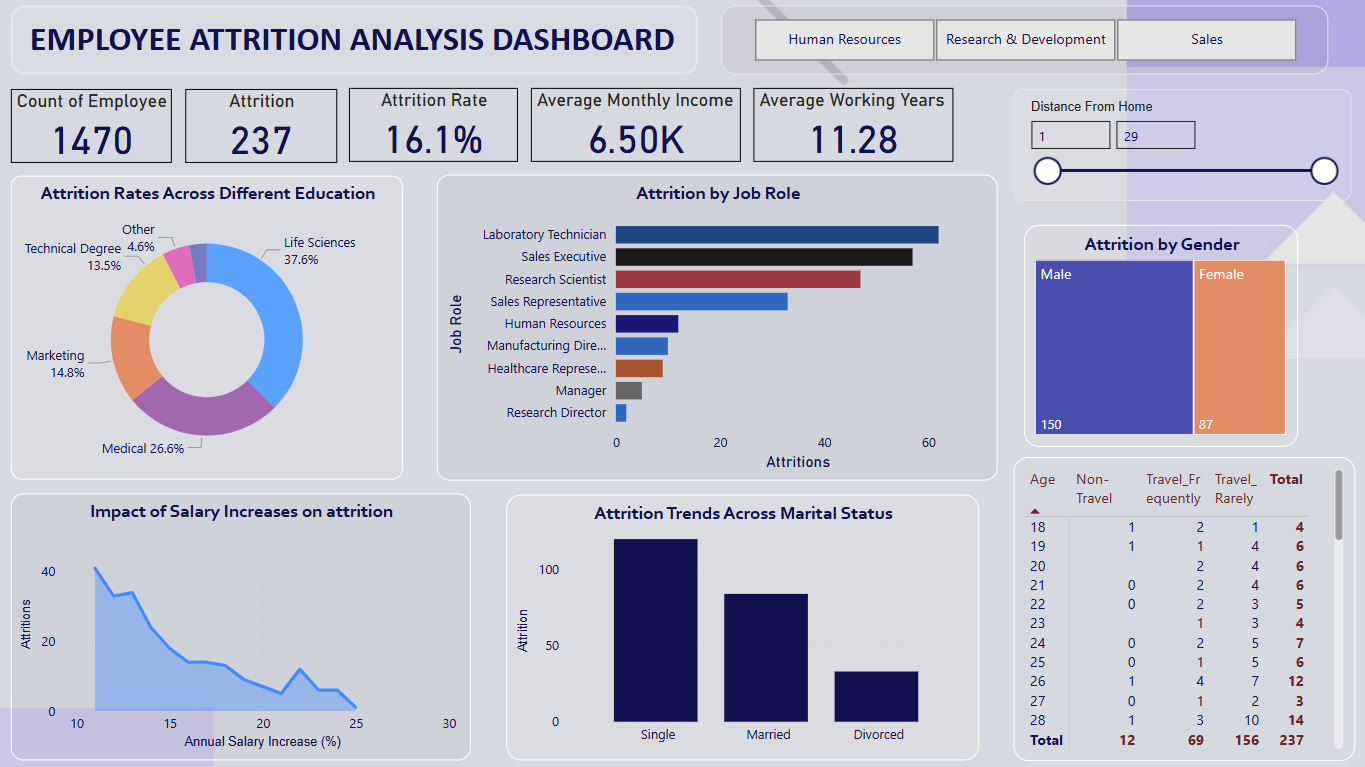

The page's visual inventory and layout, read from the dashboard file:
{"tool":"powerbi","page":{"name":"Attrition","canvas":[1280,720],"ordinal":0},"visuals":[{"type":"card","title":"Count of Employee","fields":{"Values":["Sum(HR-Employee-Attrition.EmployeeCount)"]},"box":[11.9,84.6,151.2,69.1],"z":0},{"type":"card","title":"Attrition","fields":{"Values":["Sum(HR-Employee-Attrition.Attrition_True)"]},"box":[175.1,84.6,141.7,69.1],"z":1000},{"type":"card","title":"Attrition Rate","fields":{"Values":["HR-Employee-Attrition.AttritionRate"]},"box":[327.6,84.5,158.6,69],"z":2000},{"type":"card","title":"Average Monthly Income","fields":{"Values":["Avg(HR-Employee-Attrition.MonthlyIncome)"]},"box":[497.5,84.5,197.8,69],"z":3000},{"type":"card","title":"Average Working Years","fields":{"Values":["Avg(HR-Employee-Attrition.TotalWorkingYears)"]},"box":[705.6,84.5,187.5,69],"z":4000},{"type":"donutChart","title":"Attrition Rates Across Different Education","fields":{"Category":["HR-Employee-Attrition.EducationField"],"Y":["Sum(HR-Employee-Attrition.Attrition_True)"]},"box":[11.9,165.6,366.8,284.7],"z":5000},{"type":"clusteredBarChart","title":"Attrition by Job Role","fields":{"Category":["HR-Employee-Attrition.JobRole"],"Y":["Sum(HR-Employee-Attrition.Attrition_True)"]},"box":[410.2,165.3,524.9,285.2],"z":6000},{"type":"areaChart","title":"Impact of Salary Increases on attrition","fields":{"Category":["HR-Employee-Attrition.PercentSalaryHike"],"Y":["Sum(HR-Employee-Attrition.Attrition_True)"]},"box":[11.9,463.3,430,248.9],"z":7000},{"type":"columnChart","title":"Attrition Trends Across Marital Status","fields":{"Y":["Sum(HR-Employee-Attrition.Attrition_True)"],"Category":["HR-Employee-Attrition.MaritalStatus"]},"box":[475.3,464,441.2,248],"z":8000},{"type":"pivotTable","fields":{"Rows":["HR-Employee-Attrition.Age"],"Columns":["HR-Employee-Attrition.BusinessTravel"],"Values":["Sum(HR-Employee-Attrition.Attrition_True)"]},"box":[948.6,428.8,320.3,284.2],"z":9000},{"type":"treemap","title":"Attrition by Gender","fields":{"Group":["HR-Employee-Attrition.Gender"],"Values":["Sum(HR-Employee-Attrition.Attrition_True)"]},"box":[959,211.8,256.3,206.7],"z":10000},{"type":"textbox","box":[12.4,7.2,641.7,63.9],"z":11000},{"type":"slicer","title":"Attrition by Gender","fields":{"Values":["HR-Employee-Attrition.Department"]},"box":[675.7,7.2,568.6,63.9],"z":12000},{"type":"slicer","fields":{"Values":["HR-Employee-Attrition.DistanceFromHome"]},"box":[948.6,84.7,316.2,104.4],"z":13001}]}

Visuals, with their boxes in screenshot pixels (x1, y1, x2, y2), scaled from the page's 1280x720 canvas onto the 1365x767 screenshot:
"Count of Employee" card: 13 90 174 164
"Attrition" card: 187 90 338 164
"Attrition Rate" card: 349 90 518 164
"Average Monthly Income" card: 531 90 741 164
"Average Working Years" card: 752 90 952 164
"Attrition Rates Across Different Education" donutChart: 13 176 404 480
"Attrition by Job Role" clusteredBarChart: 437 176 997 480
"Impact of Salary Increases on attrition" areaChart: 13 494 471 759
"Attrition Trends Across Marital Status" columnChart: 507 494 977 758
pivotTable - HR-Employee-Attrition.Age x HR-Employee-Attrition.BusinessTravel: 1012 457 1353 760
"Attrition by Gender" treemap: 1023 226 1296 446
textbox: 13 8 698 76
"Attrition by Gender" slicer: 721 8 1327 76
slicer - HR-Employee-Attrition.DistanceFromHome: 1012 90 1349 201
